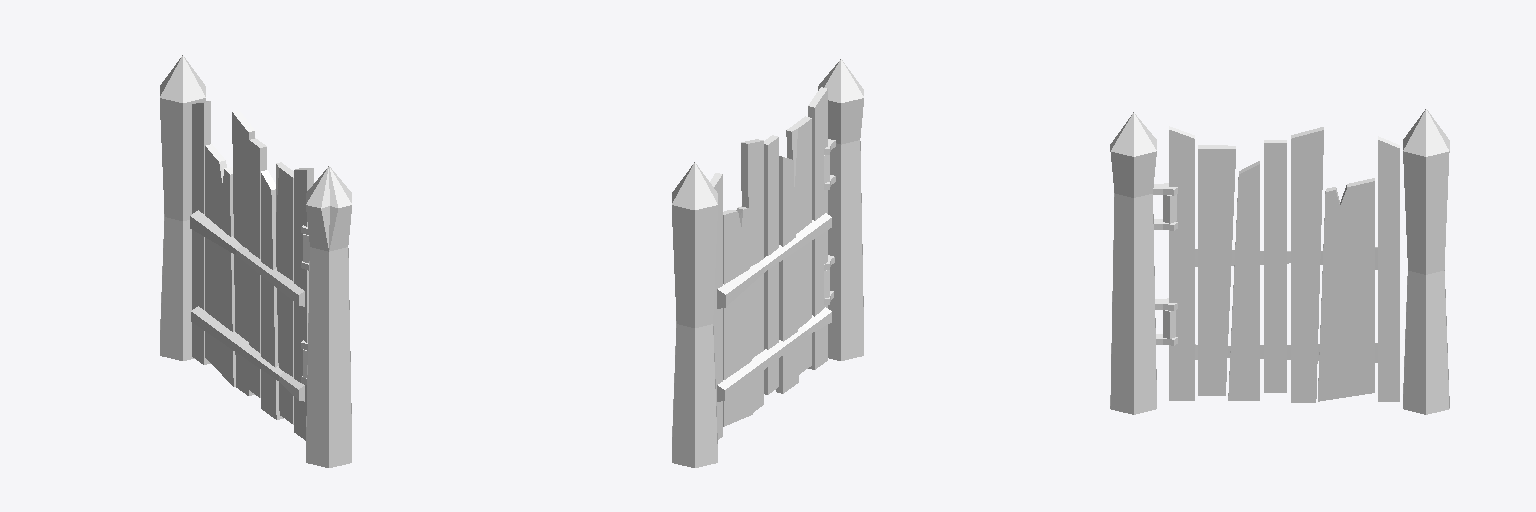
Rendered from gate_02.obj.
The picture shows the model from 3 angles: view 1: azimuth 30°, elevation 25°; view 2: azimuth 150°, elevation 25°; view 3: azimuth 270°, elevation 25°; orthographic projection.
Bounding box in the file's own units: 0.2052 × 1.24 × 1.29.